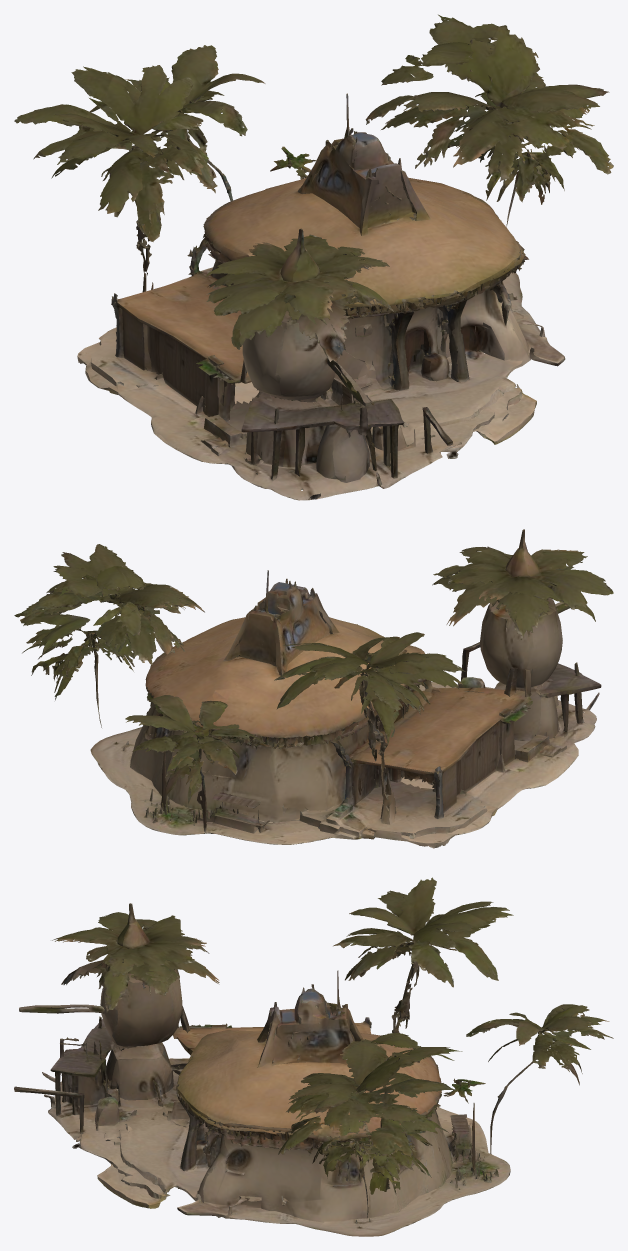
The model's file is granary__desert-oasis.glb.
3 renders of one model, top to bottom at view 1: azimuth 30°, elevation 25°; view 2: azimuth 150°, elevation 25°; view 3: azimuth 270°, elevation 25°, orthographic. The views are drawn at different scales.
Bounding box in the file's own units: 1.65 × 0.7525 × 1.96.
Materials: 1 (1 with a texture image).
